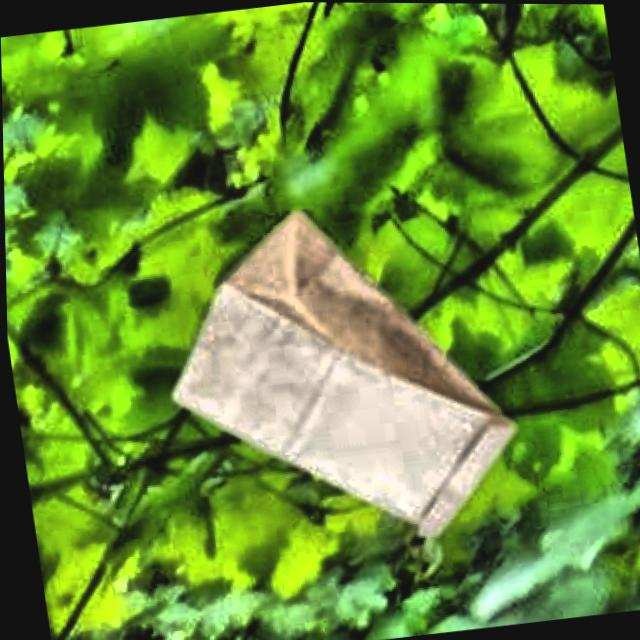Paper-bag: (114, 175, 531, 575)
